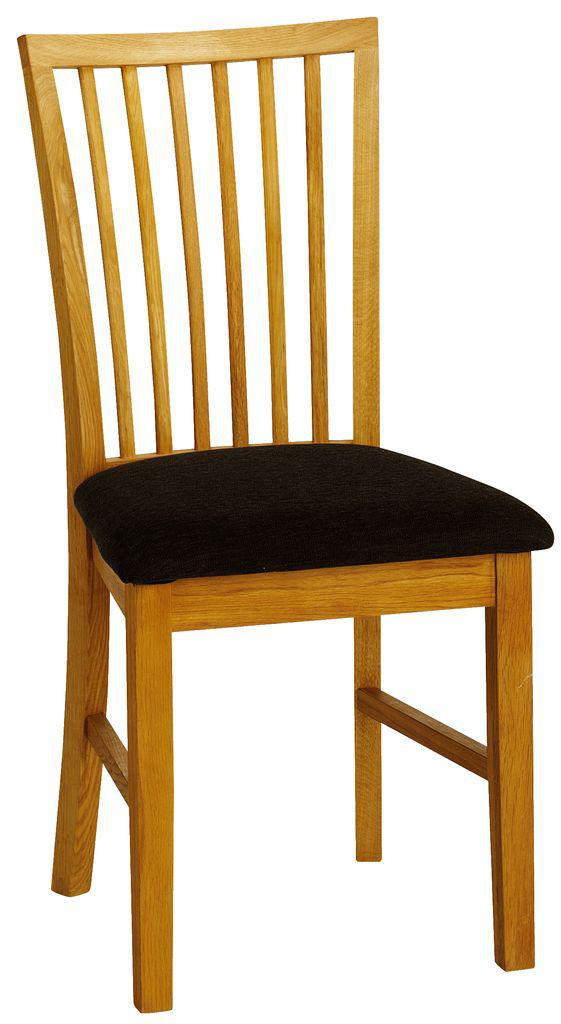chair: (8, 29, 560, 1024)
